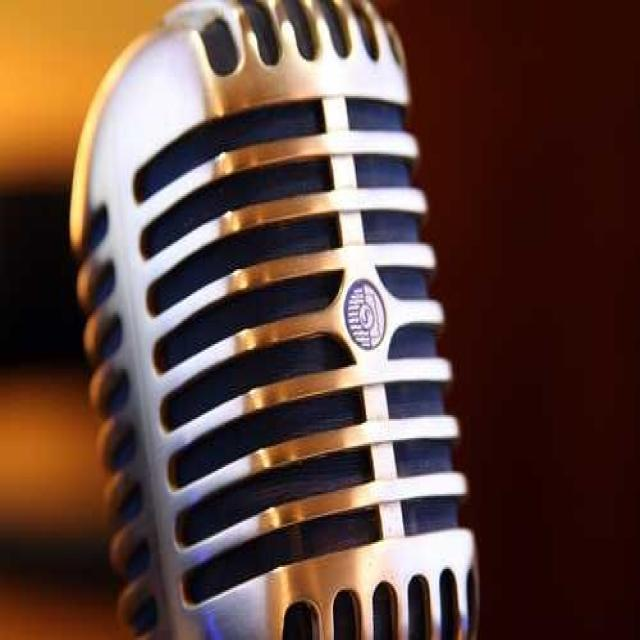microphone: (68, 0, 474, 633)
